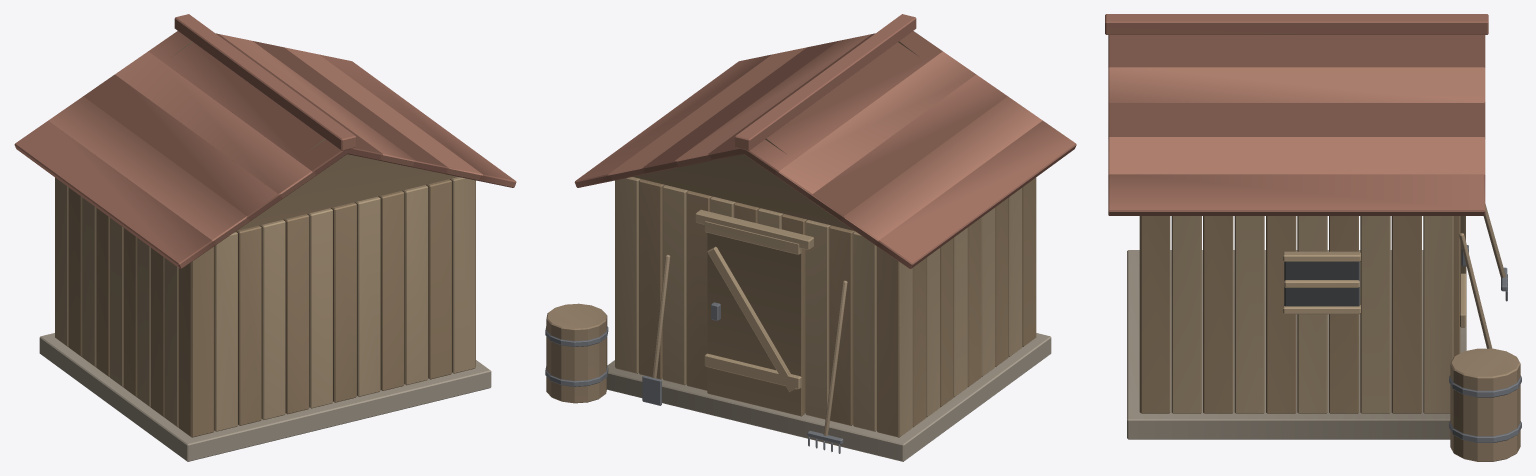
File: farm_shed.glb
The picture shows the model from 3 angles, left to right: view 1: azimuth 30°, elevation 25°; view 2: azimuth 150°, elevation 25°; view 3: azimuth 270°, elevation 25°; orthographic projection. The views are drawn at different scales.
Bounding box in the file's own units: 3.81 × 2.96 × 3.31.
